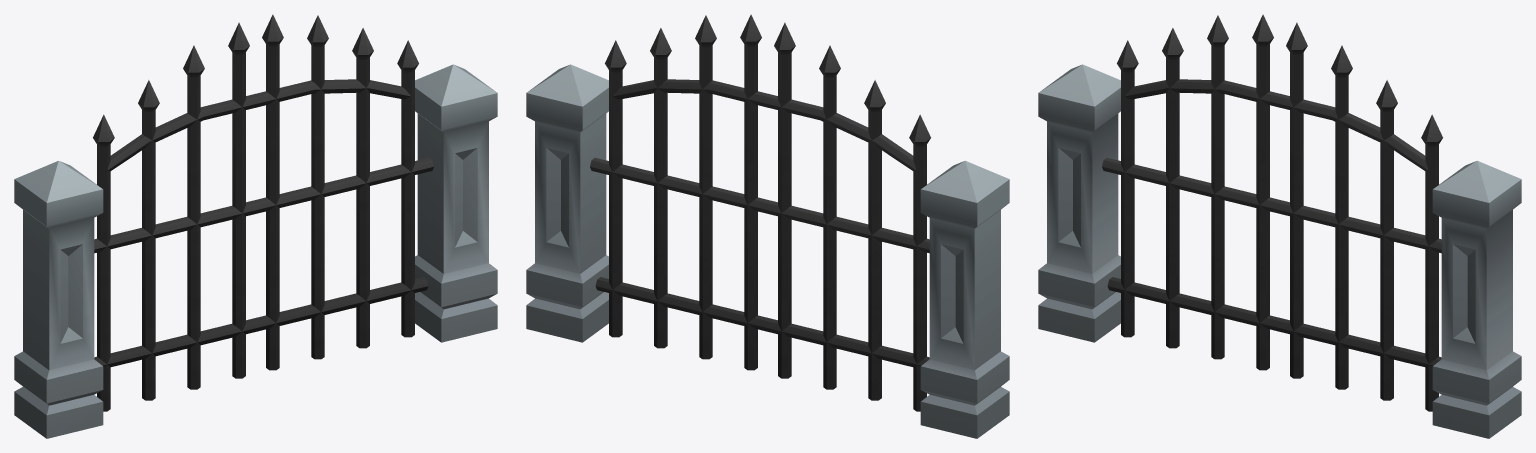
The model's file is fence_gate.glb.
3 views of the same model, side by side, from view 1: azimuth 30°, elevation 25°; view 2: azimuth 150°, elevation 25°; view 3: azimuth 330°, elevation 25° (orthographic).
Parts seen in each view (by area): view 1: Cube.070, fence_gate_left, fence_gate_right; view 2: Cube.070, fence_gate_left, fence_gate_right; view 3: Cube.070, fence_gate_right, fence_gate_left.
Part boxes in pixels (x1,y1,x2,y2): Cube.070: (14,64,497,438); fence_gate_left: (254,14,433,370); fence_gate_right: (93,22,259,411); Cube.070: (526,64,1009,438); fence_gate_left: (590,14,769,370); fence_gate_right: (764,22,930,411); Cube.070: (1038,64,1521,438); fence_gate_right: (1102,14,1281,370); fence_gate_left: (1276,22,1442,411).
Bounding box in the file's own units: 4 × 3 × 0.5.
Materials: 1 (1 with a texture image).
